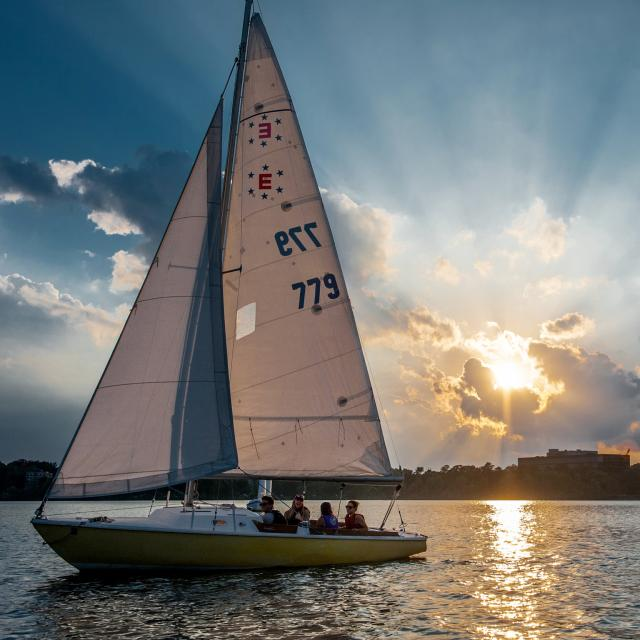boat: (21, 0, 465, 591)
